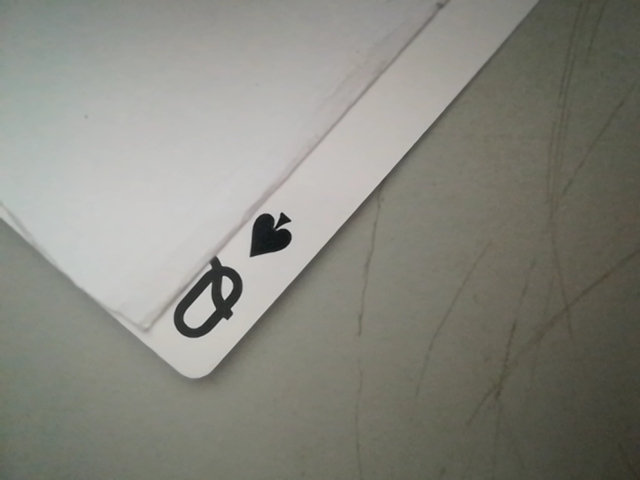ht q: (160, 201, 300, 369)
